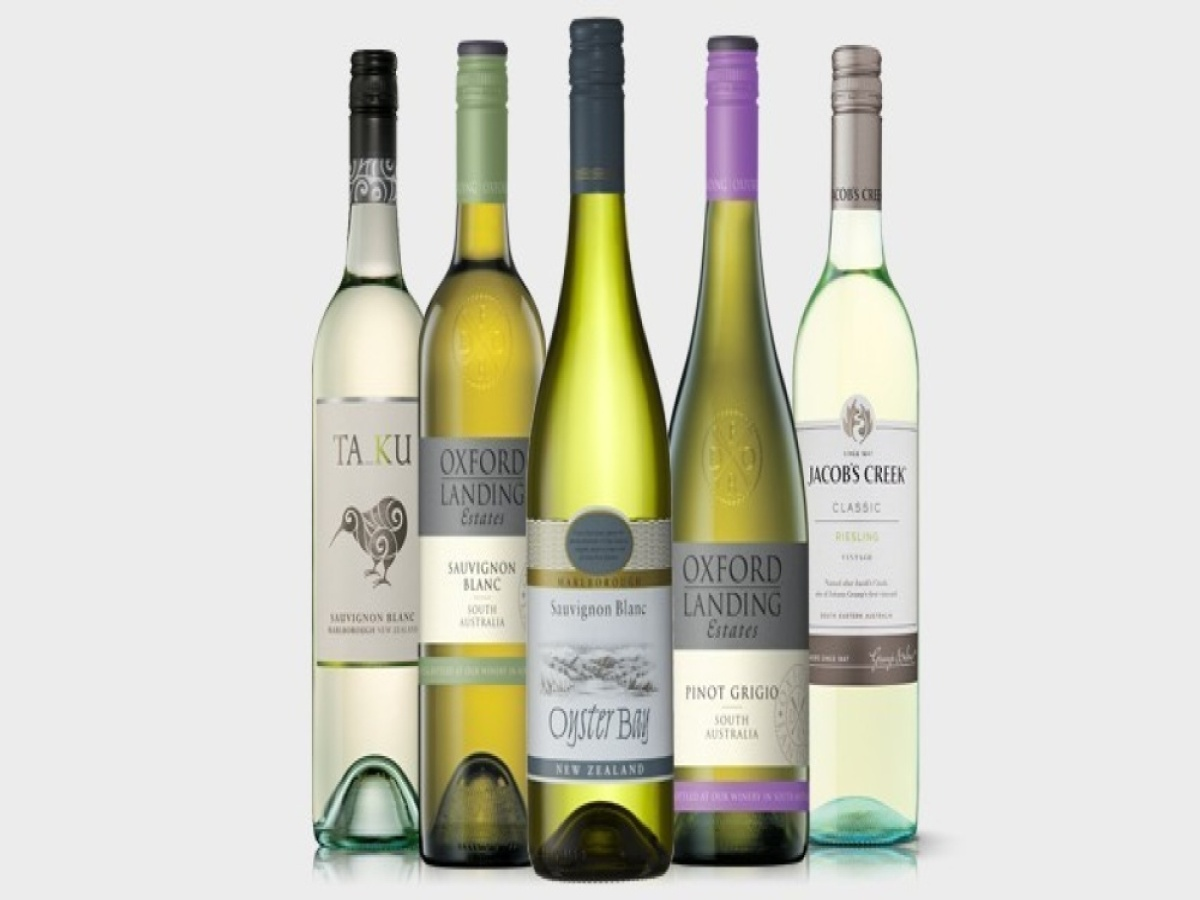wine: (528, 52, 672, 877), (674, 55, 810, 858), (310, 62, 420, 858), (420, 60, 530, 856), (807, 46, 917, 842)
